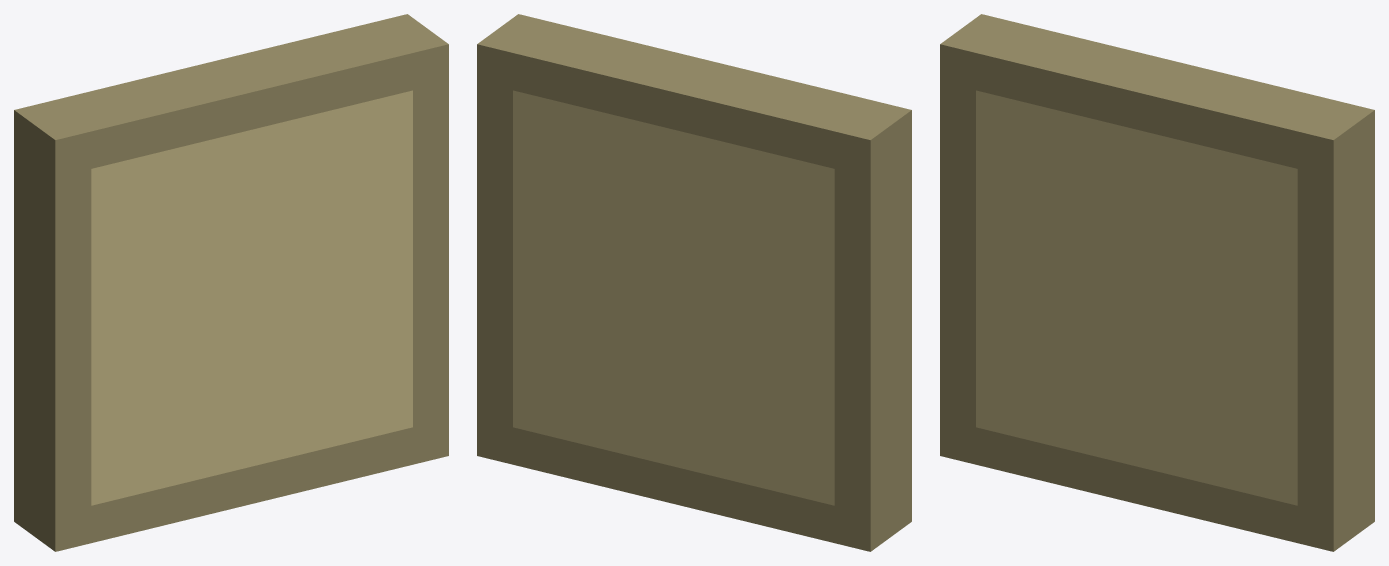
File: lampara_arana_pequena_01.glb
The picture shows the model from 3 angles, left to right: view 1: azimuth 30°, elevation 25°; view 2: azimuth 150°, elevation 25°; view 3: azimuth 330°, elevation 25°; orthographic projection.
Parts seen in each view (by area): view 1: lampara_arana_pequena; view 2: lampara_arana_pequena; view 3: lampara_arana_pequena.
Part boxes in pixels (x1,y1,x2,y2): lampara_arana_pequena: (14, 14, 448, 551); lampara_arana_pequena: (477, 14, 911, 551); lampara_arana_pequena: (940, 14, 1374, 551).
Bounding box in the file's own units: 1 × 1 × 0.1818.
